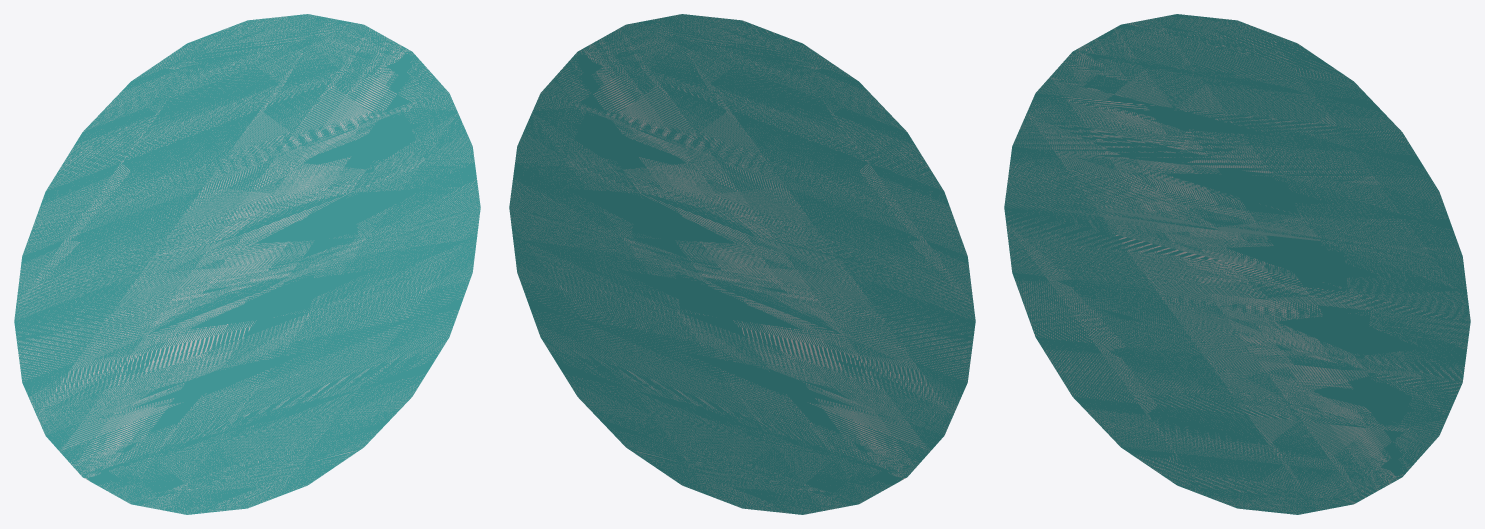
The model's file is original-13.obj.
The picture shows the model from 3 angles, left to right: view 1: azimuth 30°, elevation 25°; view 2: azimuth 150°, elevation 25°; view 3: azimuth 330°, elevation 25°; orthographic projection.
Visible parts, largest first — view 1: 3dw.2c6493d31849c15a75f1efca97bee05a/Model/Sentry_Really_Big_Rem; view 2: 3dw.2c6493d31849c15a75f1efca97bee05a/Model/Sentry_Really_Big_Rem; view 3: 3dw.2c6493d31849c15a75f1efca97bee05a/Model/Sentry_Really_Big_Rem.
Boxes of the visible parts, <box> form: 3dw.2c6493d31849c15a75f1efca97bee05a/Model/Sentry_Really_Big_Rem: <box>14,14,480,514</box>; 3dw.2c6493d31849c15a75f1efca97bee05a/Model/Sentry_Really_Big_Rem: <box>509,14,975,514</box>; 3dw.2c6493d31849c15a75f1efca97bee05a/Model/Sentry_Really_Big_Rem: <box>1004,14,1470,514</box>.
Size of the model in its own units: 0.1301 by 0.1301 by 0.
